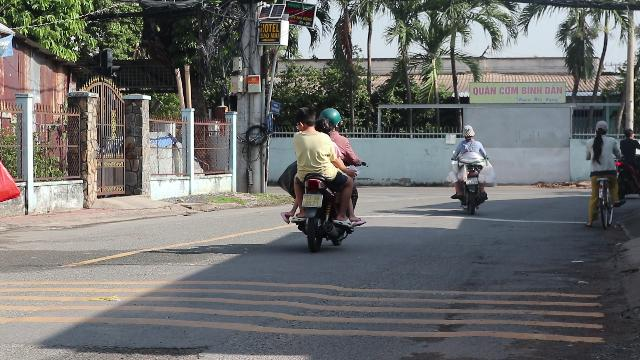helmet: (318, 108, 342, 132)
licenseplate: (302, 194, 322, 207)
motorcyclist: (278, 105, 364, 251)
nohelmet: (292, 107, 316, 131)
